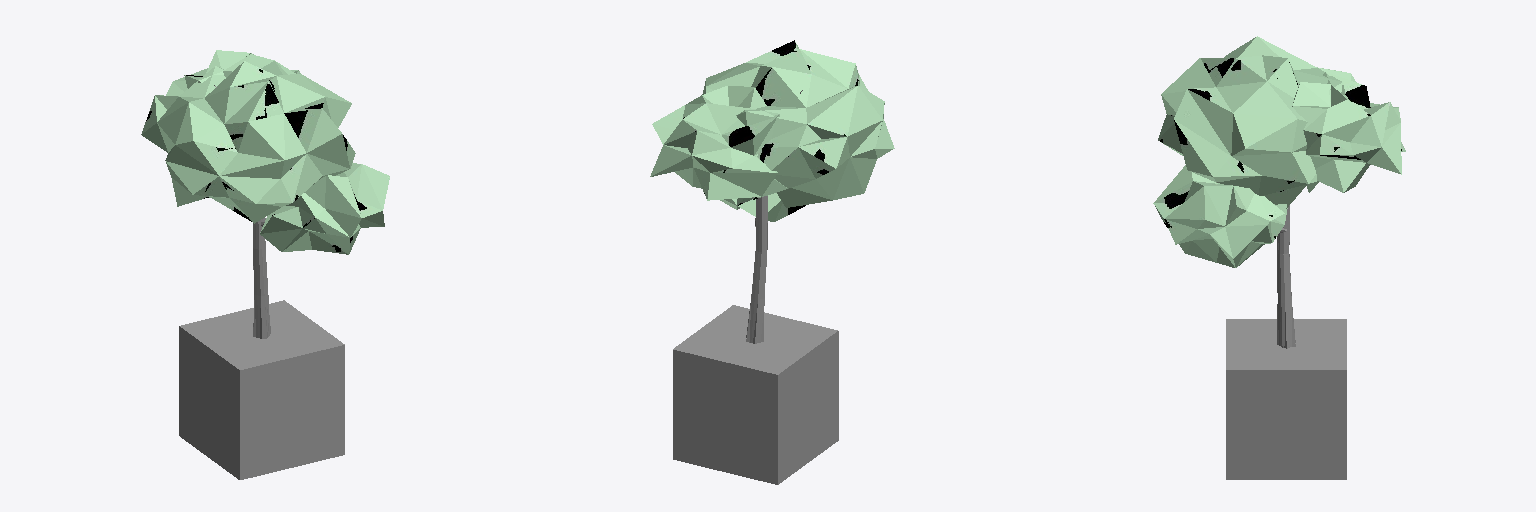
3 renders of one model, left to right at view 1: azimuth 30°, elevation 25°; view 2: azimuth 150°, elevation 25°; view 3: azimuth 270°, elevation 25°, orthographic.
Parts seen in each view (by area): view 1: Icosphere.003_Icosphere.007, Cube; view 2: Icosphere.003_Icosphere.007, Cube; view 3: Icosphere.003_Icosphere.007, Cube.
Part boxes in pixels (x1,y1,x2,y2): Icosphere.003_Icosphere.007: (141, 50, 389, 338); Cube: (179, 300, 344, 479); Icosphere.003_Icosphere.007: (650, 40, 894, 343); Cube: (673, 305, 838, 484); Icosphere.003_Icosphere.007: (1153, 36, 1405, 348); Cube: (1226, 319, 1346, 479).
Bounding box in the file's own units: 3.76 × 7.05 × 4.17.
3 materials, 1 textured.